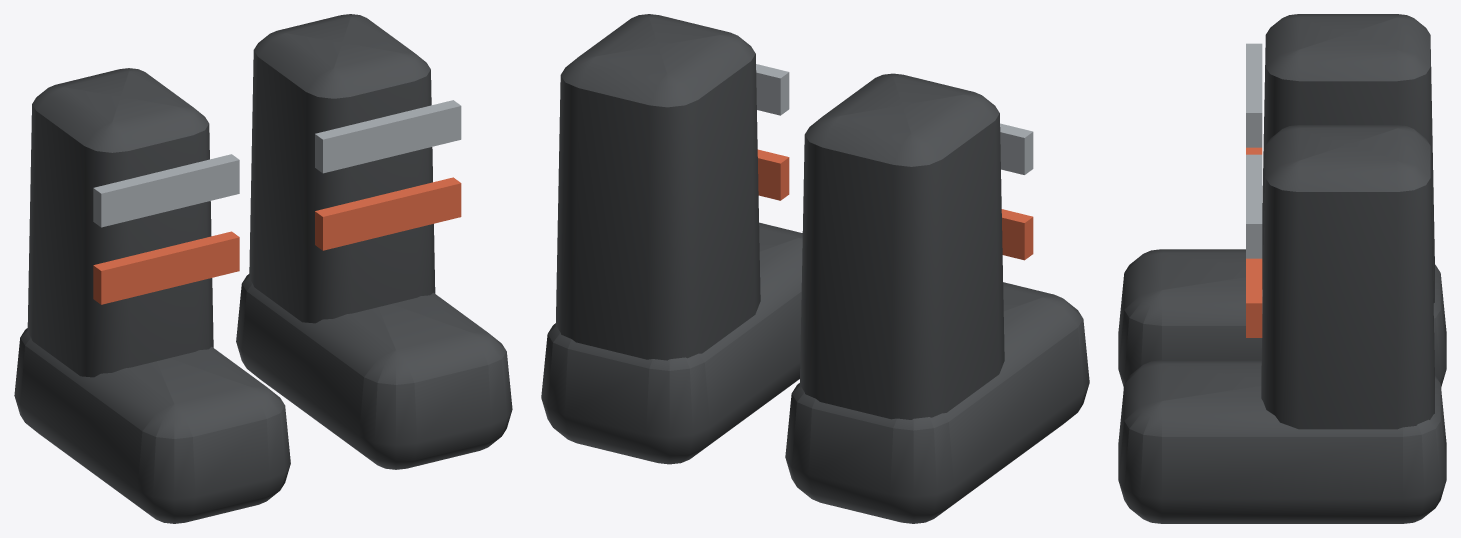
The model's file is motorcycle-racing-and-street-bikes-boots-pair-900c5780__15437.glb.
3 views of the same model, side by side, from view 1: azimuth 30°, elevation 25°; view 2: azimuth 150°, elevation 25°; view 3: azimuth 270°, elevation 25° (orthographic). The views are drawn at different scales.
Visible parts, largest first — view 1: boots-pair; view 2: boots-pair; view 3: boots-pair.
Boxes of the visible parts, box(x1,y1,x2,y2) form: boots-pair: box(14, 14, 512, 523); boots-pair: box(541, 14, 1089, 523); boots-pair: box(1118, 14, 1446, 523).
Bounding box in the file's own units: 0.4 × 0.36 × 0.3.
